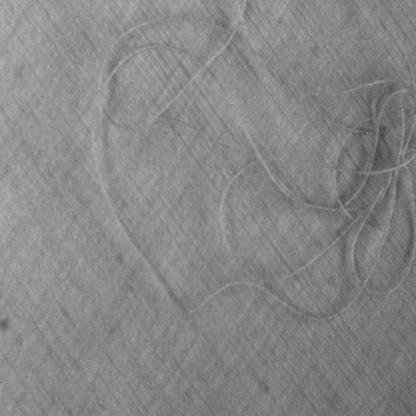objects: (91, 0, 415, 322)
